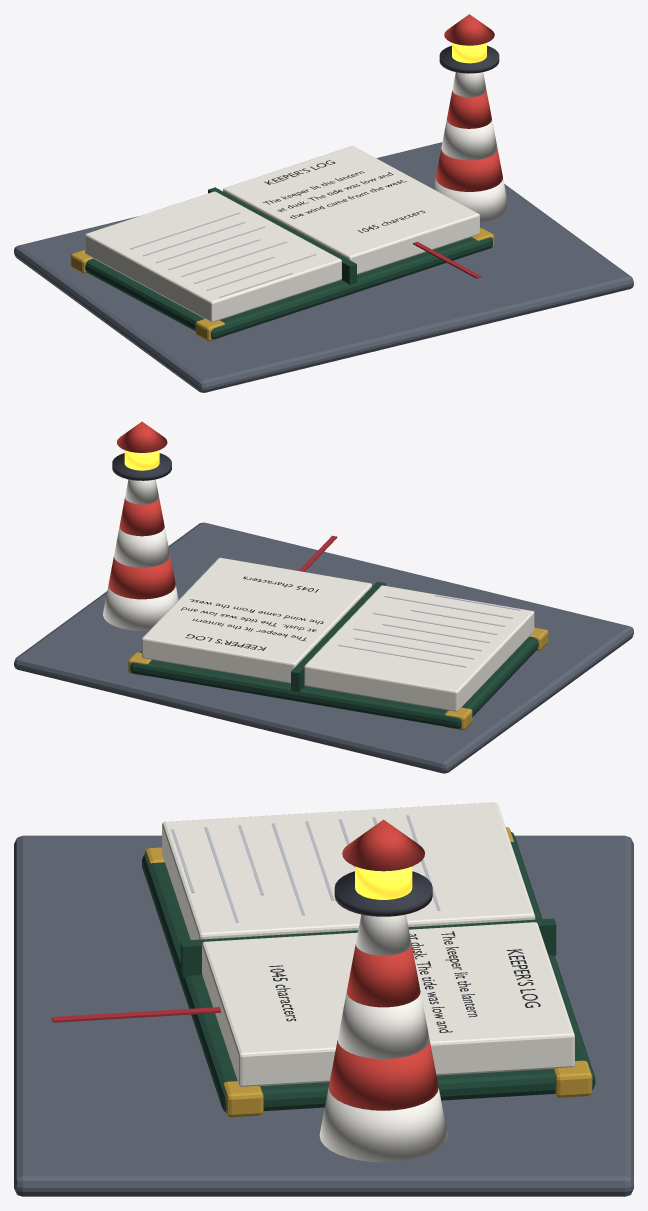
The model's file is corpus.glb.
3 renders of one model, top to bottom at view 1: azimuth 30°, elevation 25°; view 2: azimuth 150°, elevation 25°; view 3: azimuth 270°, elevation 25°, orthographic. The views are drawn at different scales.
Parts seen in each view (by area): view 1: stand, pages-1, cover, tower1, tower0, ruled0, book_title, corner-1-1, gallery, lamp; view 2: stand, pages-1, cover, tower0, tower1, ruled0, book_title, gallery, corner-1-1, lamp; view 3: stand, pages-1, cover, tower0, tower1, corner-1-1, gallery, book_title, ruled0, lamp, ribbon.
Part boxes in pixels (x1=…): stand: x1=14, y1=142, x2=633, y2=392; pages-1: x1=85, y1=146, x2=479, y2=322; cover: x1=85, y1=187, x2=492, y2=339; tower1: x1=436, y1=14, x2=502, y2=191; tower0: x1=433, y1=72, x2=508, y2=222; ruled0: x1=130, y1=212, x2=316, y2=297; book_title: x1=262, y1=160, x2=425, y2=233; corner-1-1: x1=70, y1=228, x2=494, y2=341; gallery: x1=439, y1=45, x2=499, y2=73; lamp: x1=452, y1=43, x2=486, y2=63; stand: x1=14, y1=522, x2=633, y2=773; pages-1: x1=142, y1=557, x2=534, y2=711; cover: x1=130, y1=581, x2=538, y2=728; tower0: x1=103, y1=479, x2=178, y2=630; tower1: x1=108, y1=421, x2=175, y2=599; ruled0: x1=338, y1=595, x2=520, y2=667; book_title: x1=181, y1=576, x2=323, y2=650; gallery: x1=112, y1=453, x2=171, y2=480; corner-1-1: x1=128, y1=627, x2=548, y2=729; lamp: x1=124, y1=450, x2=159, y2=470; stand: x1=14, y1=835, x2=633, y2=1196; pages-1: x1=162, y1=802, x2=574, y2=1086; cover: x1=142, y1=832, x2=595, y2=1112; tower0: x1=319, y1=914, x2=447, y2=1162; tower1: x1=328, y1=819, x2=438, y2=1110; corner-1-1: x1=144, y1=827, x2=592, y2=1117; gallery: x1=334, y1=871, x2=432, y2=916; book_title: x1=269, y1=931, x2=540, y2=1032; ruled0: x1=170, y1=815, x2=440, y2=922; lamp: x1=355, y1=866, x2=412, y2=899; ribbon: x1=51, y1=1007, x2=220, y2=1022.
Bounding box in the file's own units: 1.09 × 0.494 × 0.8219.
